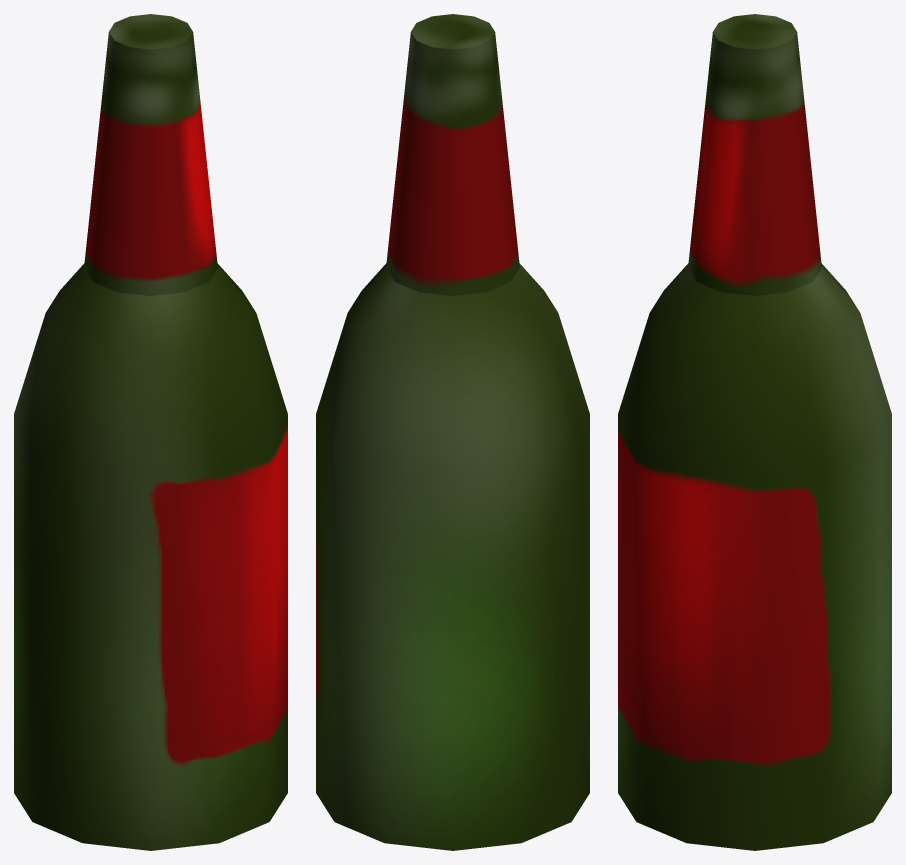
Rendered from beer_01.FBX.
3 views of the same model, side by side, from view 1: azimuth 30°, elevation 25°; view 2: azimuth 150°, elevation 25°; view 3: azimuth 270°, elevation 25° (orthographic).
Visible parts, largest first — view 1: beer_01; view 2: beer_01; view 3: beer_01.
Part boxes in pixels (left/top/right/bottom): beer_01: left=14, top=14, right=287, bottom=850; beer_01: left=316, top=14, right=589, bottom=850; beer_01: left=618, top=14, right=891, bottom=850.
Size of the model in its own units: 14.65 by 44.95 by 14.65.
